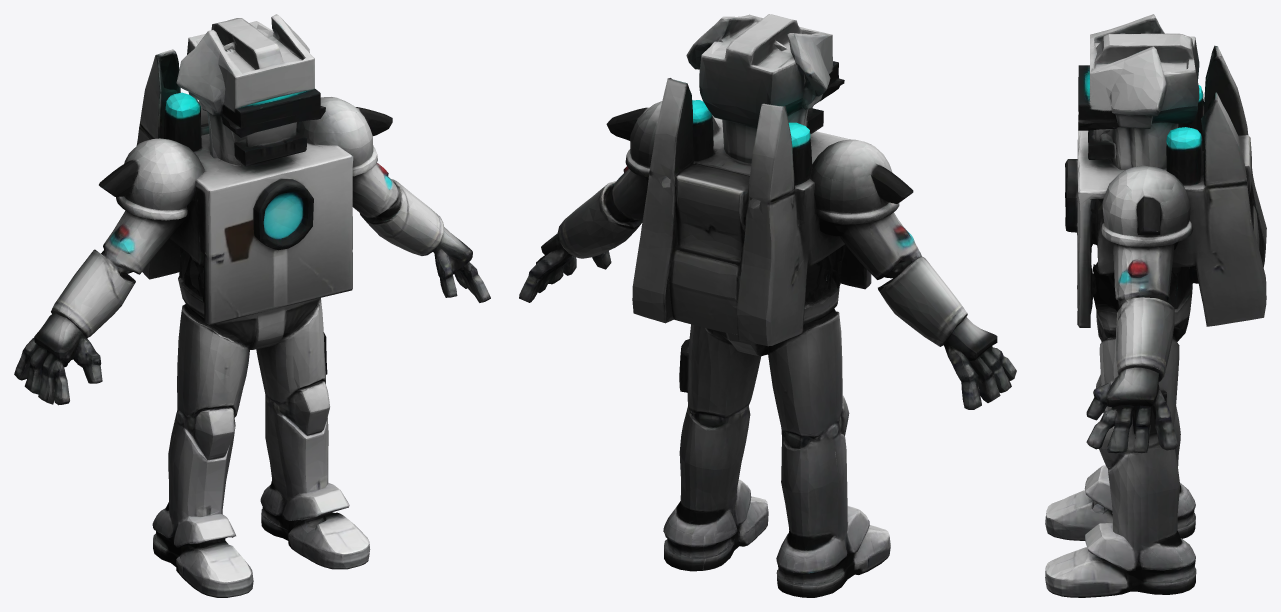
The model's file is chrome_warden.glb.
3 views of the same model, side by side, from view 1: azimuth 30°, elevation 25°; view 2: azimuth 150°, elevation 25°; view 3: azimuth 270°, elevation 25° (orthographic). The views are drawn at different scales.
Parts seen in each view (by area): view 1: world; view 2: world; view 3: world.
Boxes of the visible parts, x1,y1,x2,y2 form: world: [14, 14, 490, 597]; world: [519, 14, 1016, 597]; world: [1045, 14, 1266, 597].
Bounding box in the file's own units: 0.8936 × 1 × 0.3825.
1 material, 1 textured.
